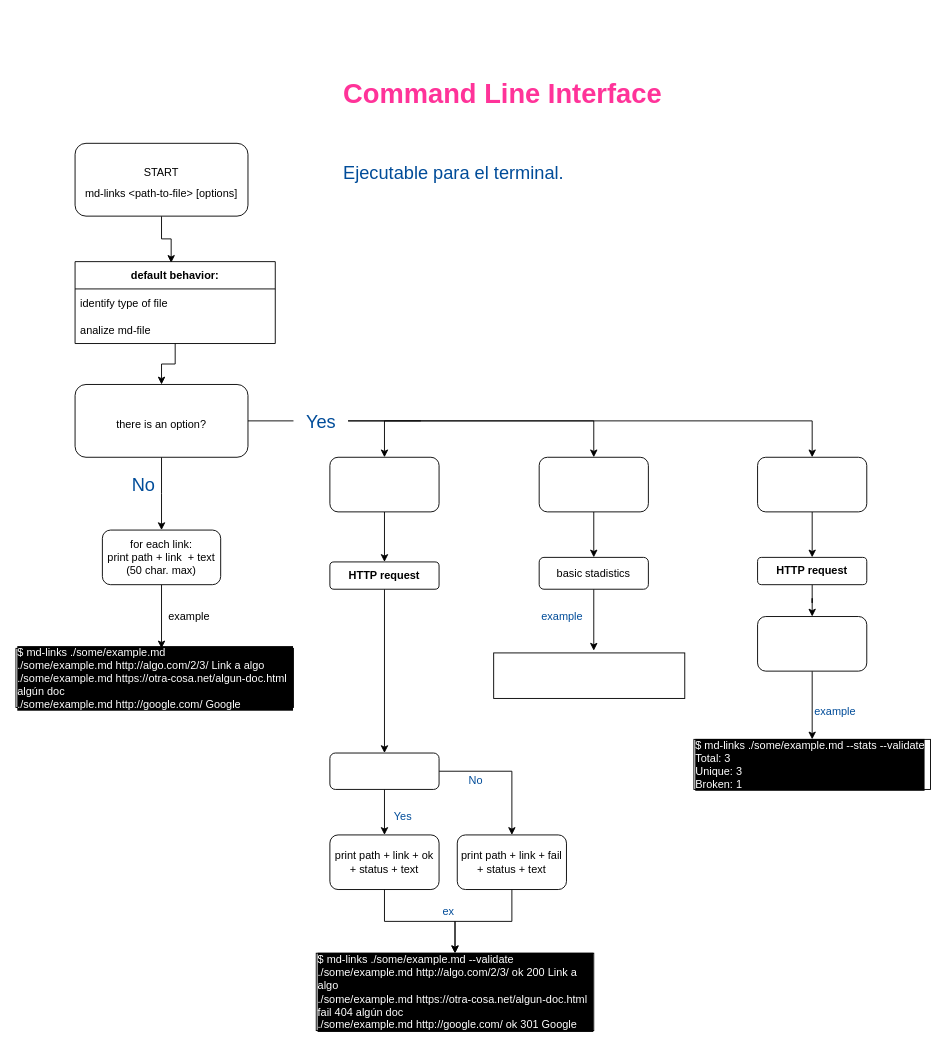
Image size: 946x1047. Some labels were removed from this diagram. Each missing label, with the box of its shape:
$ md-links ./some/example.md --stats Total: 3 Unique: 3: (493, 652, 685, 698)
--stats: (538, 456, 648, 512)
--stats --validate: (757, 456, 867, 512)
--validate: (329, 456, 439, 512)
for each link: is URL ok?: (329, 752, 439, 789)
stadistics that need validation results: (757, 616, 867, 671)
